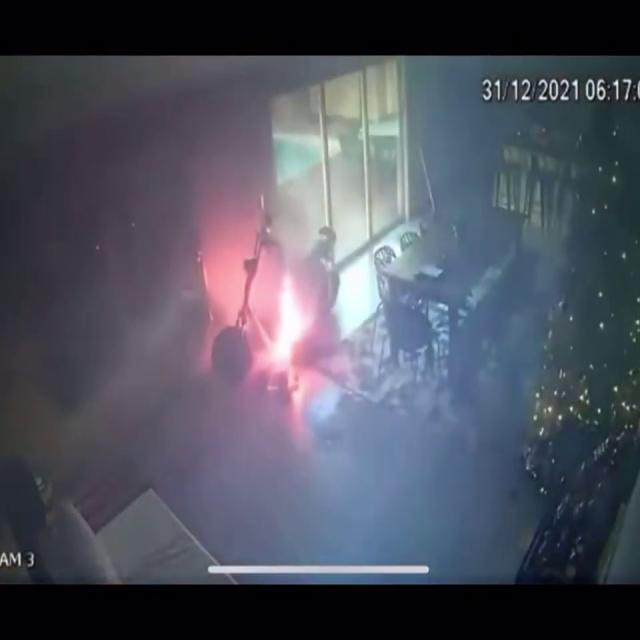Fire: (258, 260, 314, 376)
Smoke: (352, 71, 600, 568), (0, 58, 209, 467)
